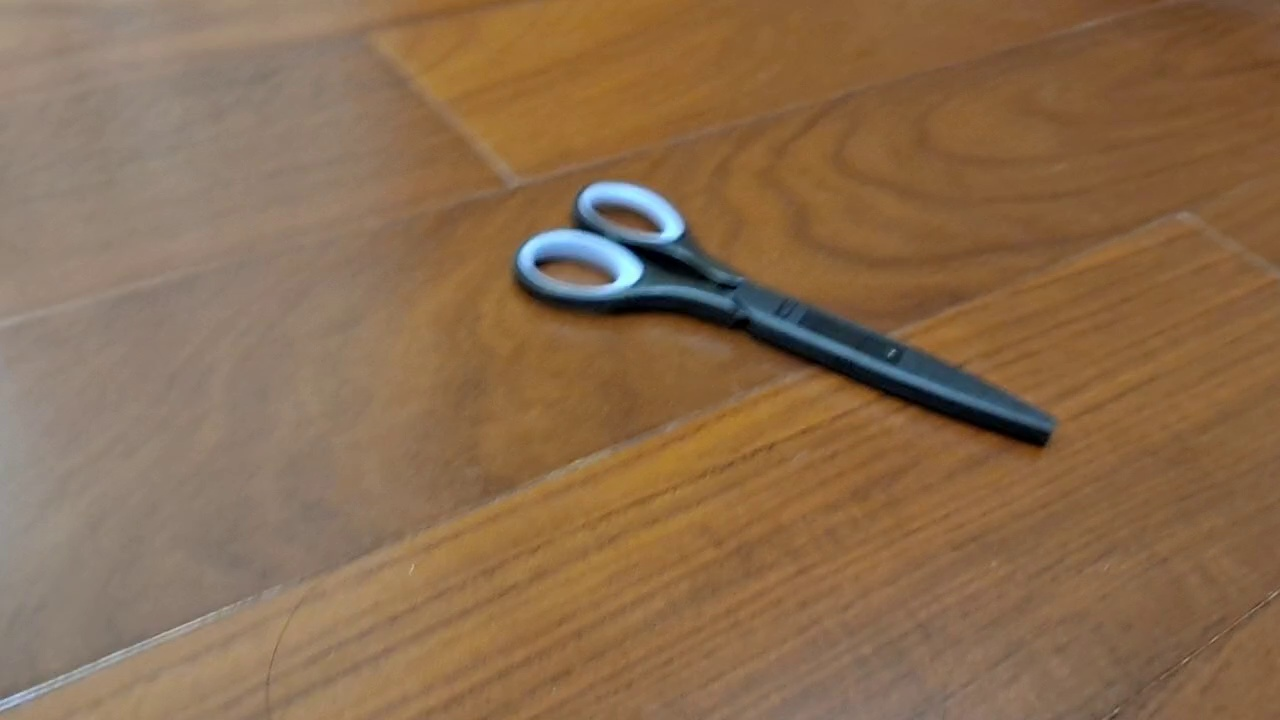scissors: (511, 178, 1062, 450)
